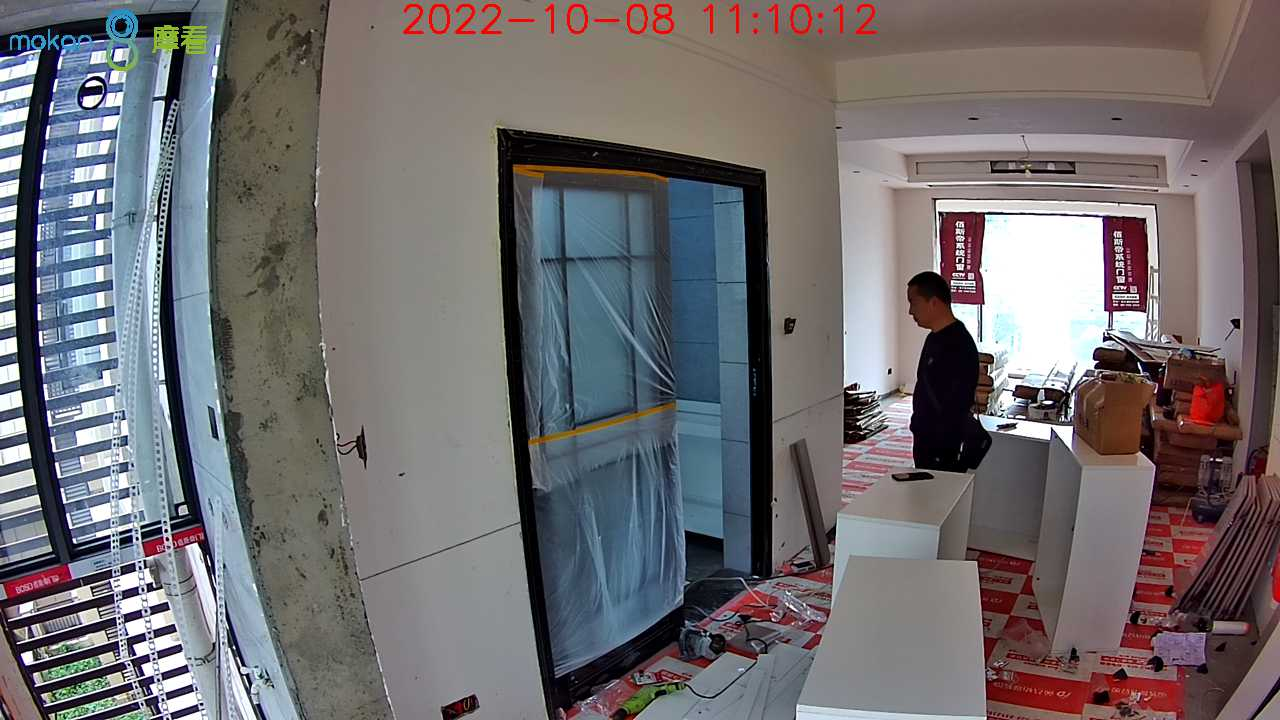people: (905, 270, 977, 470)
window: (937, 209, 1155, 379)
